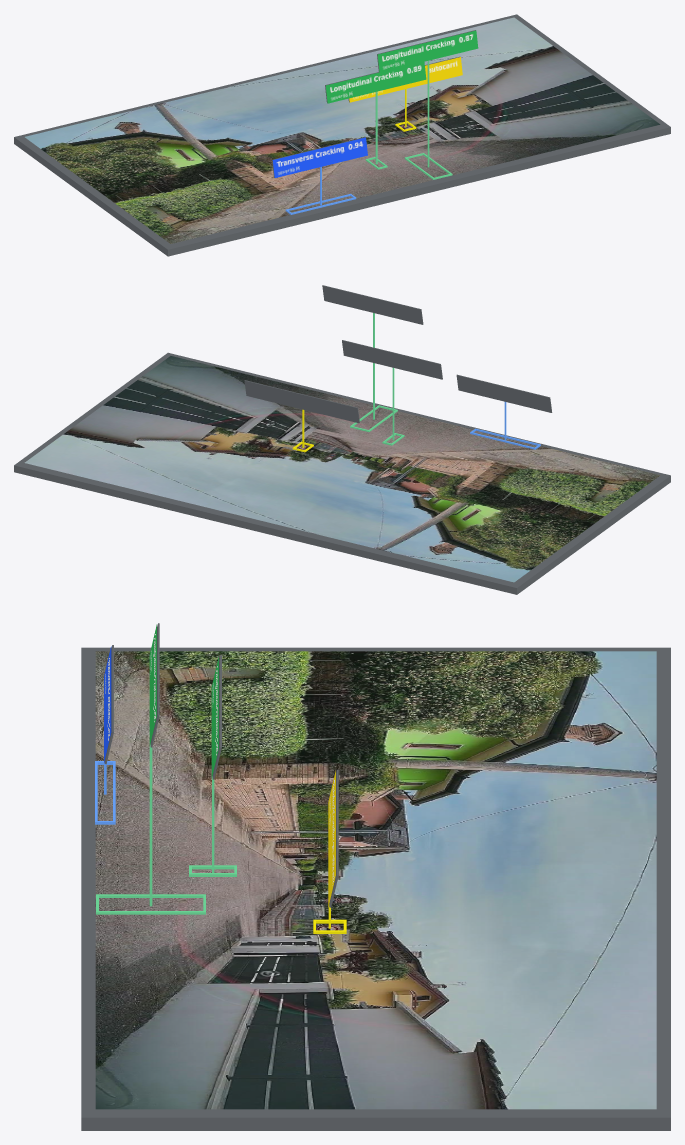
File: tavolo_residenziale.glb
The picture shows the model from 3 angles, top to bottom: view 1: azimuth 30°, elevation 25°; view 2: azimuth 150°, elevation 25°; view 3: azimuth 270°, elevation 25°; orthographic projection. The views are drawn at different scales.
Parts seen in each view (by area): view 1: photo, base, det_2_label, det_1_label, det_0_label, det_3_label; view 2: photo, base, det_3_back, det_2_back, det_1_back, det_0_back; view 3: photo, base, det_3_label, det_1_label, det_2_label.
Boxes of the visible parts, bbox=[...] form: photo: bbox=[25, 17, 660, 243]; base: bbox=[14, 14, 670, 256]; det_2_label: bbox=[377, 30, 478, 72]; det_1_label: bbox=[325, 62, 426, 103]; det_0_label: bbox=[272, 137, 367, 177]; det_3_label: bbox=[349, 57, 462, 102]; photo: bbox=[24, 356, 659, 582]; base: bbox=[14, 352, 670, 594]; det_3_back: bbox=[244, 380, 359, 423]; det_2_back: bbox=[322, 285, 423, 324]; det_1_back: bbox=[342, 340, 442, 379]; det_0_back: bbox=[456, 374, 552, 412]; photo: bbox=[95, 651, 656, 1109]; base: bbox=[81, 647, 670, 1130]; det_3_label: bbox=[328, 770, 335, 906]; det_1_label: bbox=[211, 657, 218, 778]; det_2_label: bbox=[149, 624, 156, 745].
Size of the model in its own units: 0.616 by 0.1541 by 0.3639.
10 materials, 6 textured.
